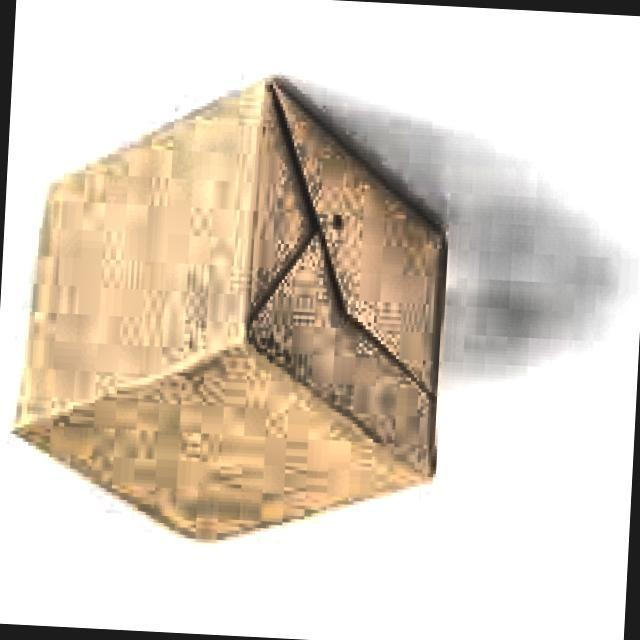cardboard: (1, 65, 456, 561)
